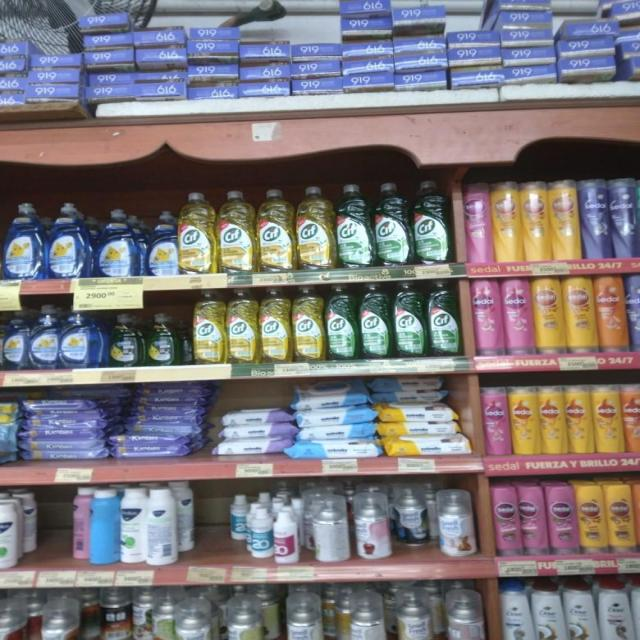ala_crem_amarillo: (493, 180, 520, 262), (523, 180, 549, 262)
cif_conc_bot_amarilla: (257, 187, 294, 273), (296, 186, 333, 271), (218, 189, 255, 274), (179, 192, 216, 274), (191, 288, 225, 366), (292, 286, 324, 364), (227, 287, 258, 365), (260, 286, 291, 364)
cif_conc_botella_verde: (413, 180, 451, 265), (336, 183, 372, 269), (374, 182, 410, 267), (427, 279, 460, 357), (393, 280, 425, 358), (359, 282, 391, 359), (326, 283, 357, 361)
magistral_con_azul: (47, 202, 90, 280), (2, 201, 44, 280), (95, 208, 142, 278), (61, 306, 102, 369), (147, 210, 178, 276), (30, 304, 59, 370), (3, 308, 28, 371)
magistral_con_verde: (108, 312, 143, 368)
